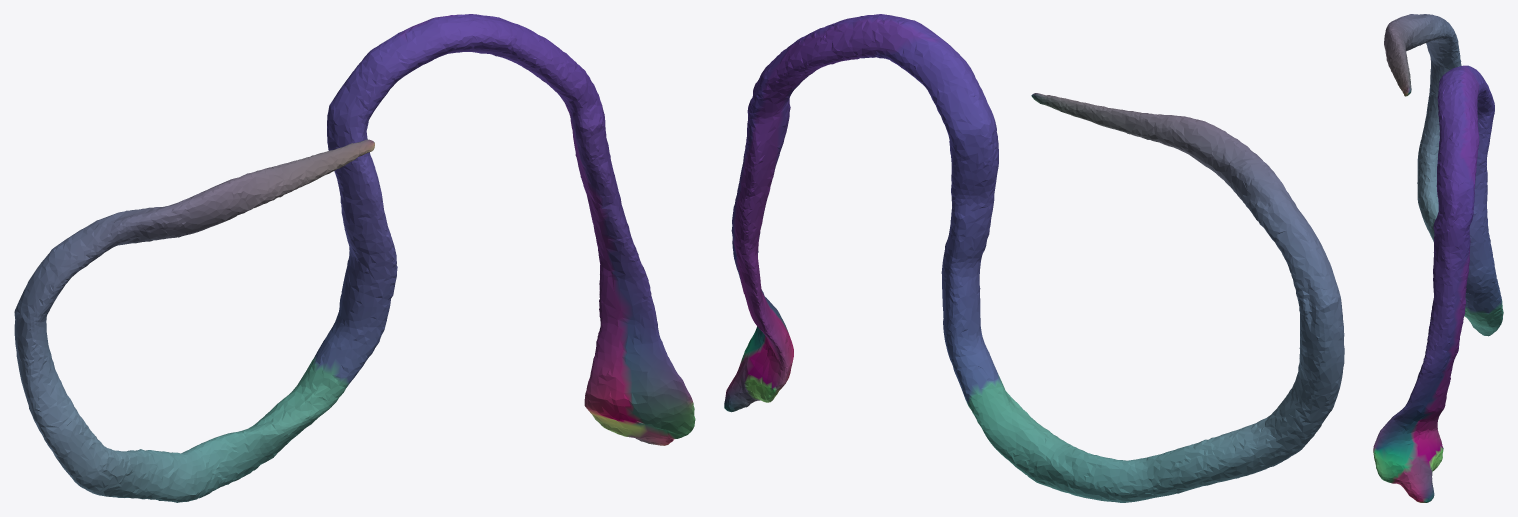
Rendered from snake-19.off.obj.
3 renders of one model, left to right at view 1: azimuth 30°, elevation 25°; view 2: azimuth 150°, elevation 25°; view 3: azimuth 270°, elevation 25°, orthographic. The views are drawn at different scales.
Size of the model in its own units: 1.55 by 1.06 by 0.3524.
